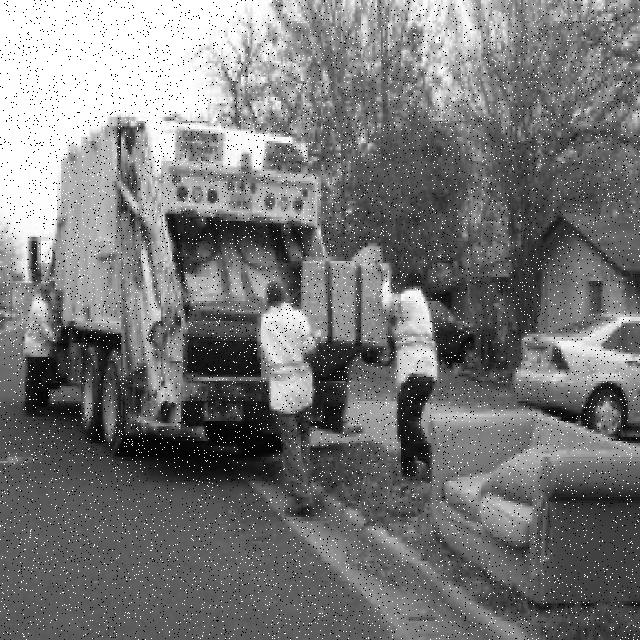Garbage Truck: (28, 118, 387, 454)
